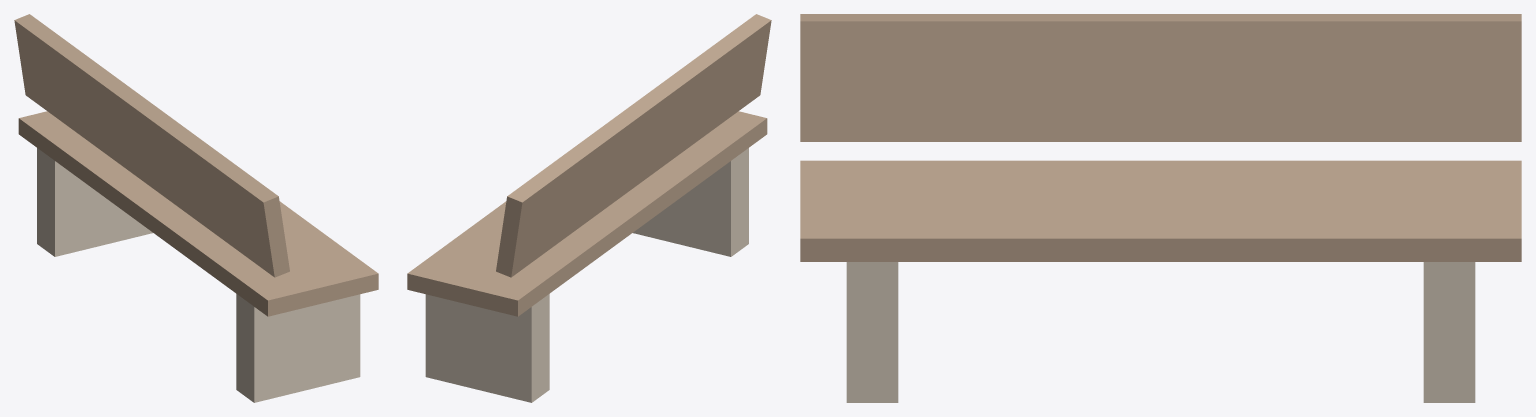
File: promenade_bench.glb
3 renders of one model, left to right at view 1: azimuth 30°, elevation 25°; view 2: azimuth 150°, elevation 25°; view 3: azimuth 270°, elevation 25°, orthographic. The views are drawn at different scales.
Parts seen in each view (by area): view 1: promenade_bench; view 2: promenade_bench; view 3: promenade_bench.
Part boxes in pixels (x1,y1,x2,y2): promenade_bench: (14, 14, 378, 402); promenade_bench: (407, 14, 771, 402); promenade_bench: (800, 14, 1521, 402).
Size of the model in its own units: 0.52 by 0.9333 by 1.95.
